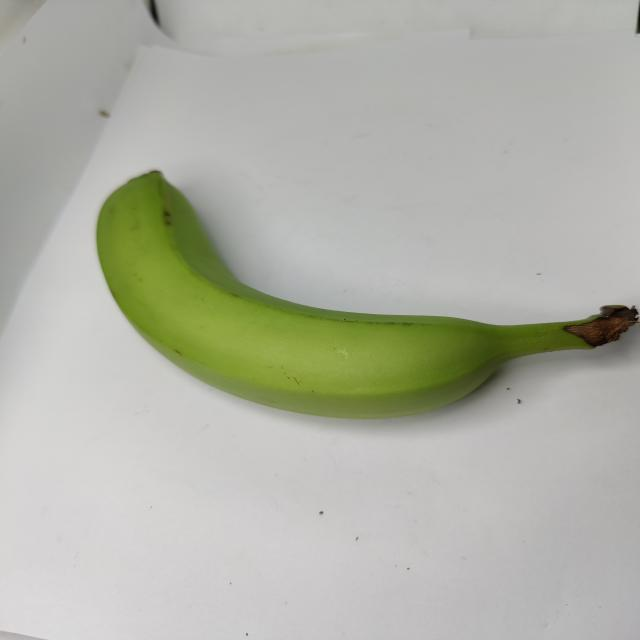raw: (49, 97, 640, 480)
